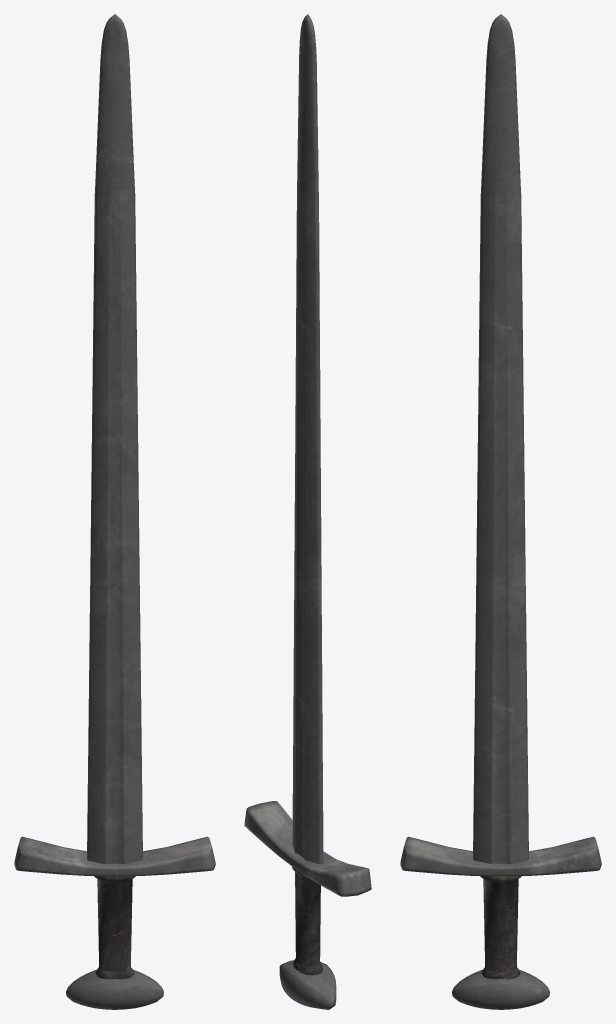
Rendered from arming_sword.glb.
The picture shows the model from 3 angles, left to right: view 1: azimuth 90°, elevation 25°; view 2: azimuth 210°, elevation 25°; view 3: azimuth 270°, elevation 25°; orthographic projection.
Parts seen in each view (by area): view 1: arming_sword; view 2: arming_sword; view 3: arming_sword.
Part boxes in pixels (bbox=[...]): arming_sword: bbox=[14, 14, 215, 1009]; arming_sword: bbox=[244, 14, 371, 1009]; arming_sword: bbox=[400, 14, 601, 1009].
Size of the model in its own units: 0.0383 by 0.9635 by 0.177.
Materials: 1 (1 with a texture image).
